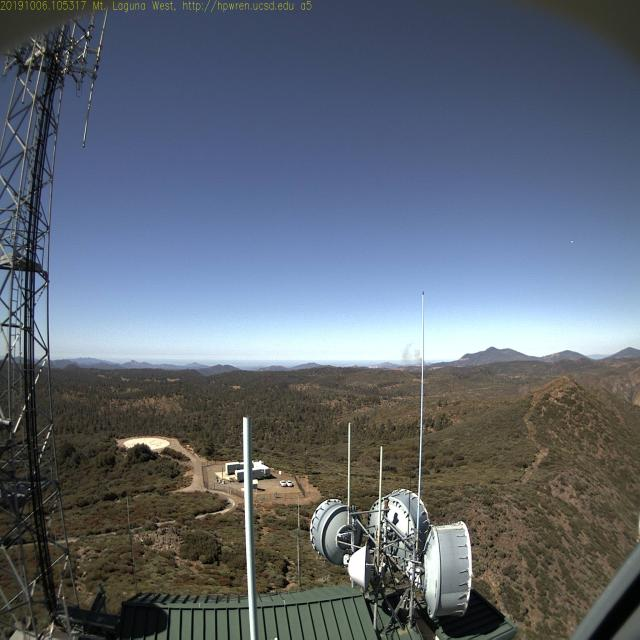smoke: (394, 342, 428, 366)
